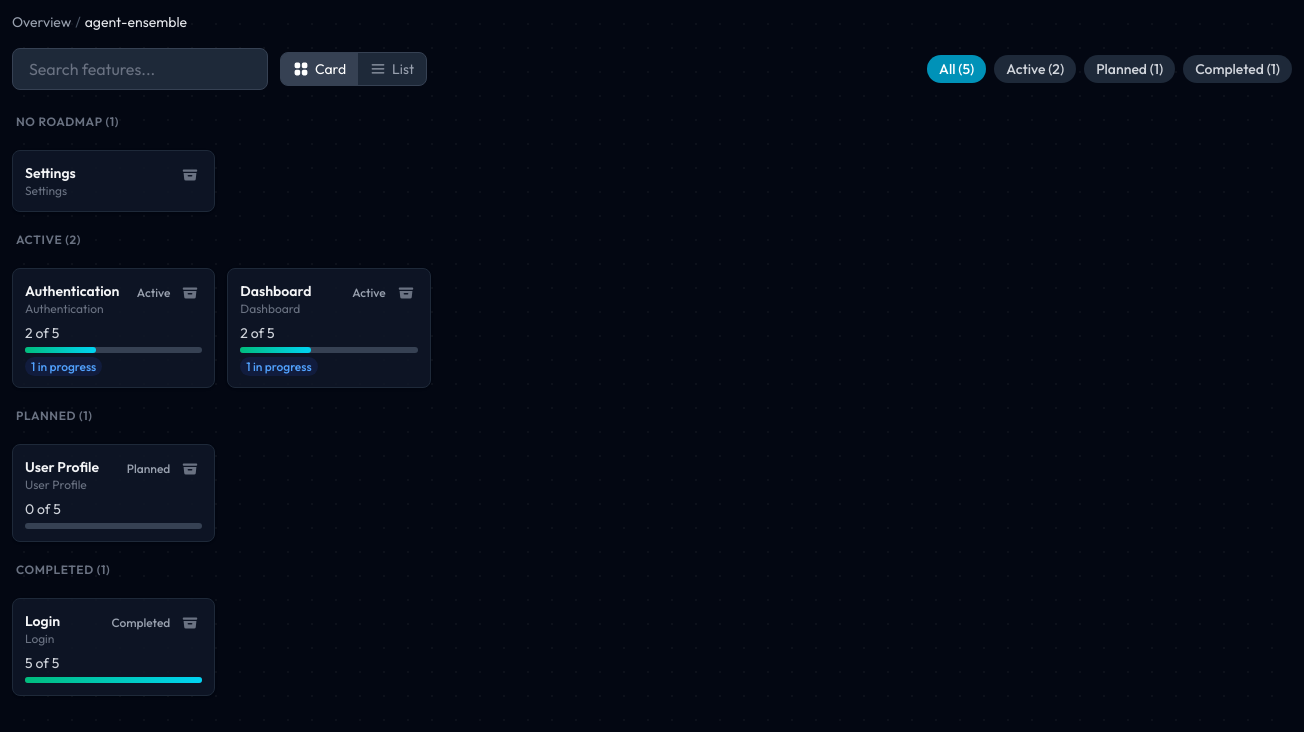
Test: ProjectFeatureView › search filtering › filters features case-insensitively: "auth" shows ["Authentication"]
Step 1. Type "auth" into the field with placeholder "Search features..." → (140,69), box x1=12 y1=48 x2=268 y2=90
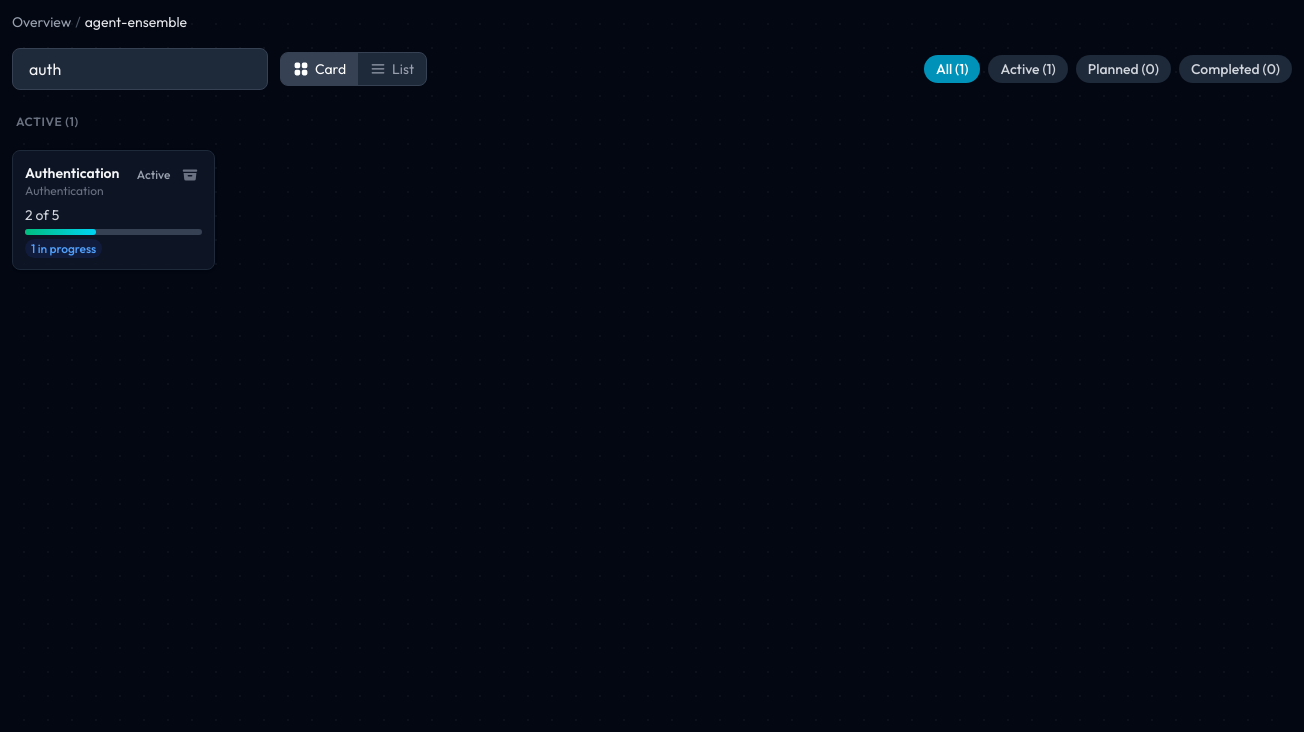
Expected: the button "Dashboard" is gone
Expected: the button "User Profile" is gone
Expected: the button "Login" is gone
